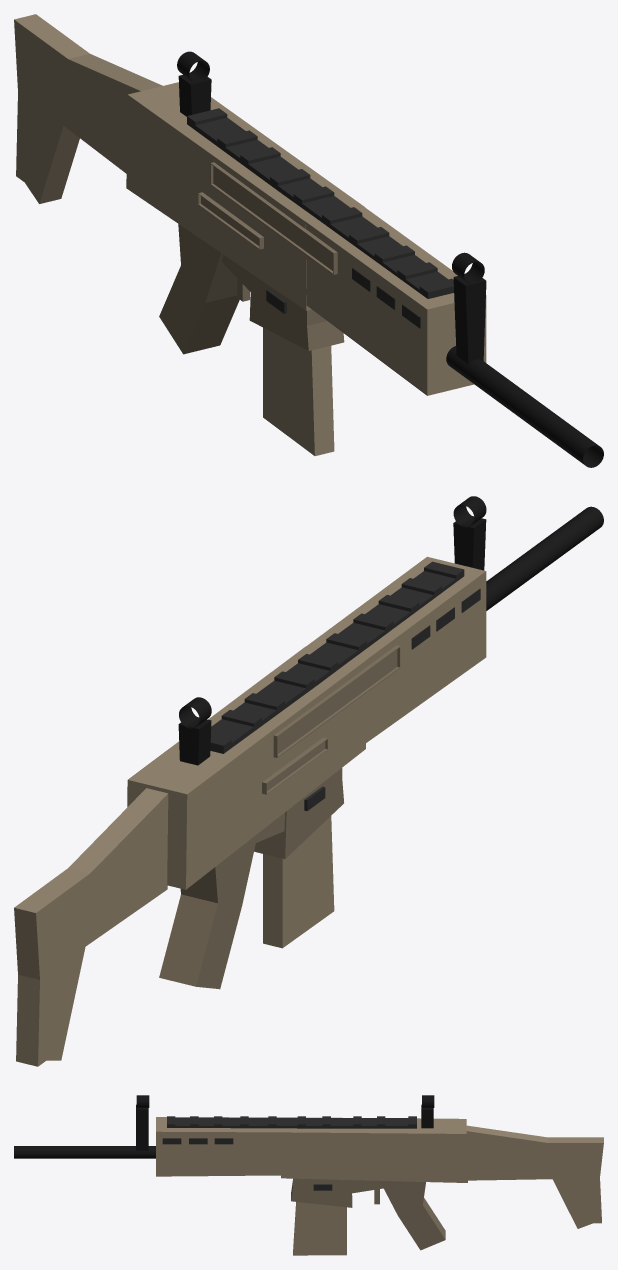
File: Scar.fbx
3 views of the same model, one above another, from view 1: azimuth 30°, elevation 25°; view 2: azimuth 150°, elevation 25°; view 3: azimuth 270°, elevation 25° (orthographic). The views are drawn at different scales.
Parts seen in each view (by area): view 1: Plane, Plane.001, Plane.002, Plane.007, Plane.003, Cube.012, Cylinder, Cube.003, Plane.004, Cube.001, Cube.002, Cube.007 (+2 smaller); view 2: Plane, Plane.001, Plane.002, Plane.003, Plane.007, Cube.012, Cylinder, Cube.003, Plane.004, Cube.001, Cube.002, Cube.007; view 3: Plane, Plane.001, Plane.002, Plane.007, Plane.003, Cube.012, Cylinder, Plane.004, Cube.001, Plane.005, Cube.002.
Boxes of the visible parts, box(x1,y1,x2,y2) form: Plane: box(126, 82, 364, 310); Plane.001: box(14, 14, 162, 203); Plane.002: box(305, 207, 486, 395); Plane.007: box(263, 327, 334, 455); Plane.003: box(159, 224, 239, 354); Cube.012: box(188, 117, 447, 293); Cylinder: box(446, 346, 603, 467); Cube.003: box(210, 162, 337, 274); Plane.004: box(249, 273, 344, 350); Cube.001: box(453, 274, 486, 364); Cube.002: box(178, 72, 211, 116); Cube.007: box(198, 192, 263, 249); Plane: box(127, 646, 365, 889); Plane.001: box(14, 788, 168, 1066); Plane.002: box(306, 556, 486, 742); Plane.003: box(159, 834, 257, 989); Plane.007: box(263, 816, 334, 948); Cube.012: box(211, 571, 456, 747); Cylinder: box(486, 506, 603, 610); Cube.003: box(273, 645, 400, 757); Plane.004: box(254, 768, 343, 858); Cube.001: box(453, 516, 486, 570); Cube.002: box(178, 717, 211, 765); Cube.007: box(262, 737, 327, 794); Plane: box(281, 1117, 467, 1182); Plane.001: box(466, 1125, 603, 1228); Plane.002: box(156, 1117, 281, 1176); Plane.007: box(293, 1202, 346, 1255); Plane.003: box(380, 1181, 445, 1250); Cube.012: box(173, 1118, 414, 1128); Cylinder: box(14, 1146, 155, 1158); Plane.004: box(291, 1178, 352, 1207); Cube.001: box(136, 1104, 148, 1150); Plane.005: box(350, 1180, 383, 1193); Cube.002: box(421, 1104, 433, 1128).
Size of the model in its own units: 61.63 by 277 by 943.
